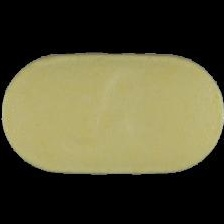63187-209: (0, 0, 224, 224)
